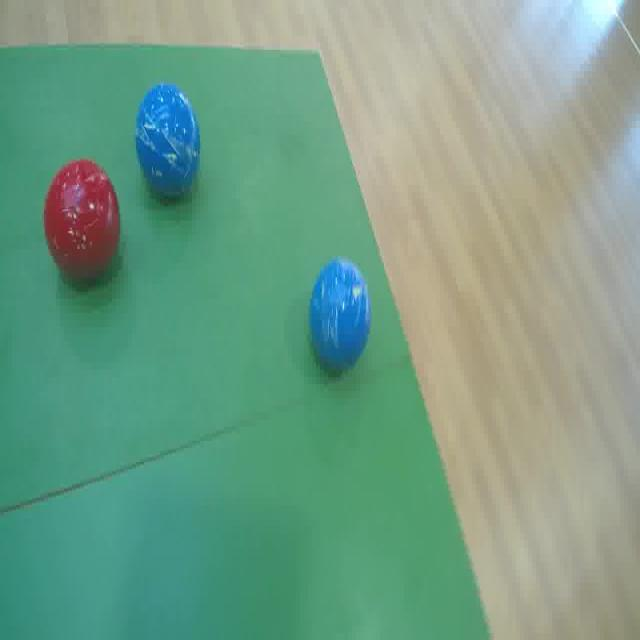blue_ball: (134, 78, 206, 204), (305, 250, 371, 374)
red_ball: (46, 158, 120, 288)
